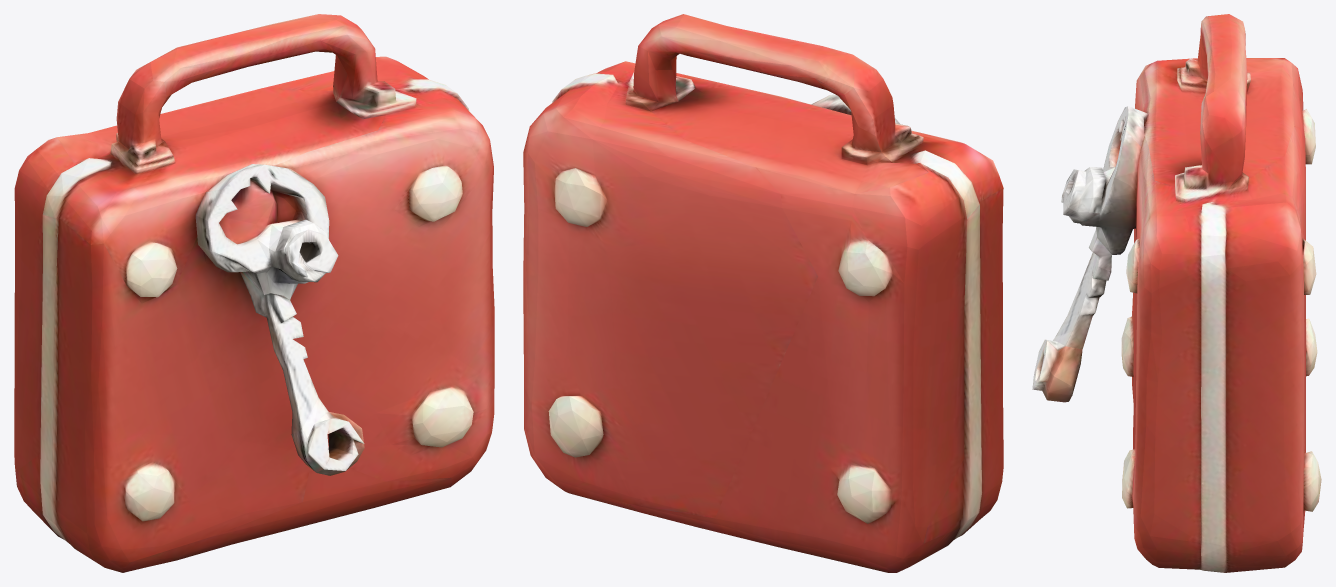
Rendered from repair-kit.glb.
3 views of the same model, side by side, from view 1: azimuth 30°, elevation 25°; view 2: azimuth 150°, elevation 25°; view 3: azimuth 270°, elevation 25° (orthographic). The views are drawn at different scales.
Visible parts, largest first — view 1: model; view 2: model; view 3: model.
Part boxes in pixels (<box>): model: <box>14,14,494,572</box>; model: <box>523,14,1003,572</box>; model: <box>1032,14,1321,572</box>.
Bounding box in the file's own units: 1.02 × 1.1 × 0.647.
1 material, 1 textured.
